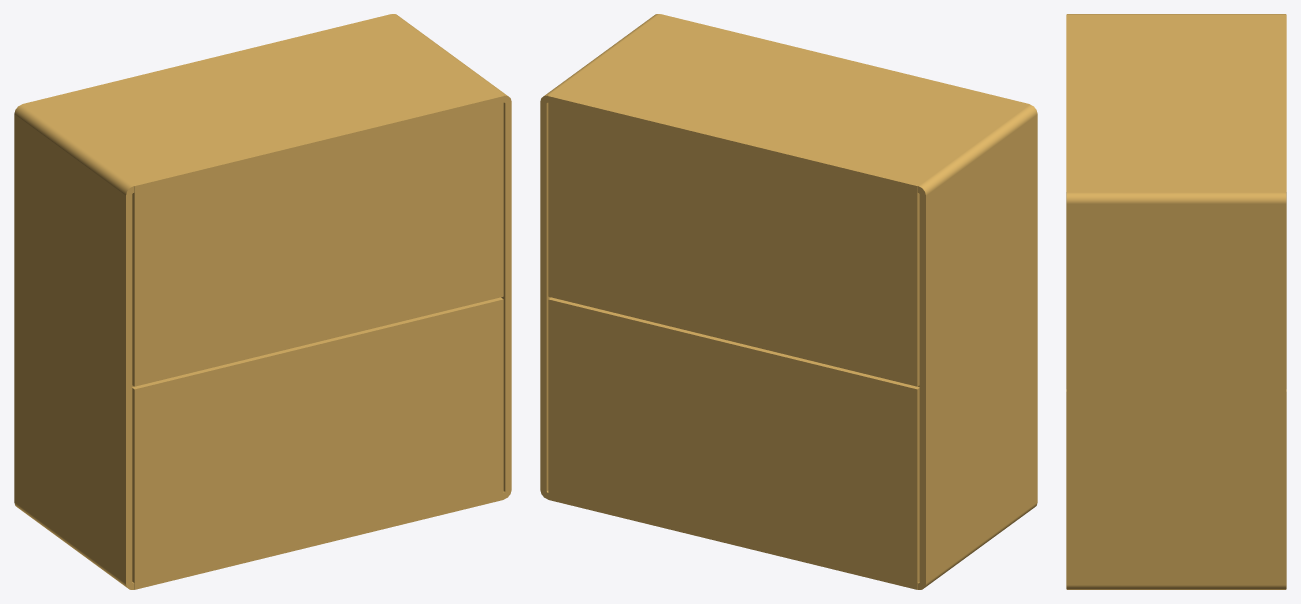
Rendered from scatola_chiusa_400.glb.
3 renders of one model, left to right at view 1: azimuth 30°, elevation 25°; view 2: azimuth 150°, elevation 25°; view 3: azimuth 270°, elevation 25°, orthographic.
Parts seen in each view (by area): view 1: Solido1; view 2: Solido1; view 3: Solido1.
Part boxes in pixels (x1,y1,x2,y2): Solido1: (14,14,511,589); Solido1: (540,14,1037,589); Solido1: (1066,14,1286,589).
Size of the model in its own units: 0.399 by 0.399 by 0.201.
